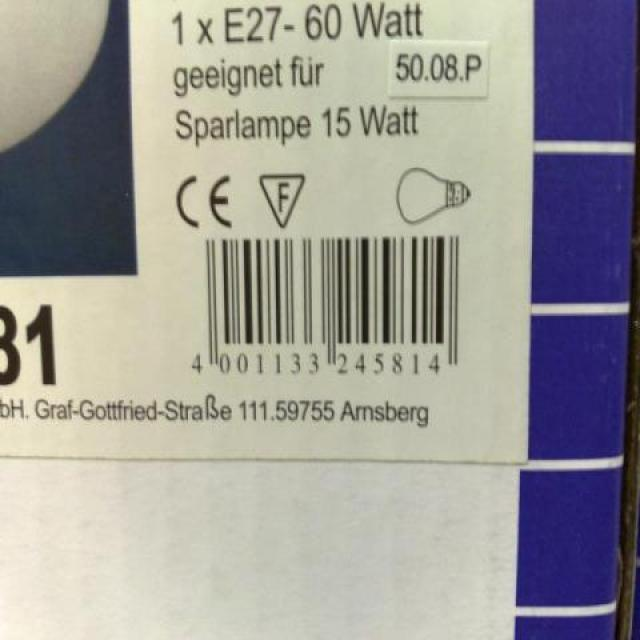Barcode: (181, 228, 478, 389)
